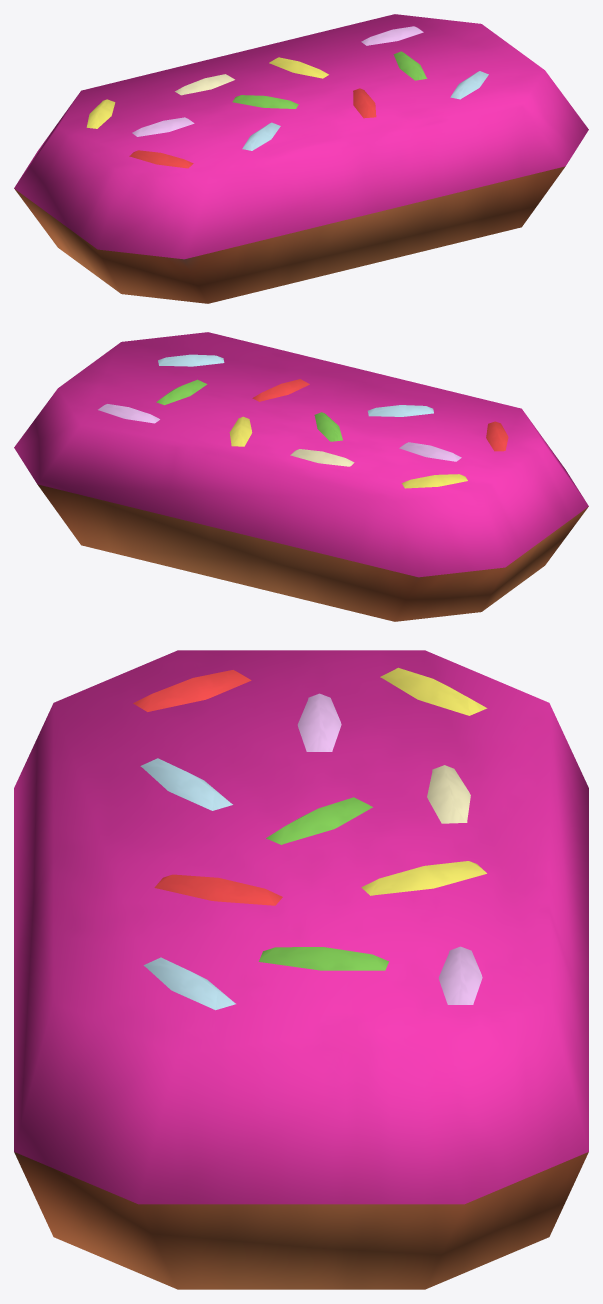
The model's file is Doughnut_Bar_A.FBX.
3 renders of one model, top to bottom at view 1: azimuth 30°, elevation 25°; view 2: azimuth 150°, elevation 25°; view 3: azimuth 270°, elevation 25°, orthographic. The views are drawn at different scales.
Parts seen in each view (by area): view 1: Doughnut_Bar; view 2: Doughnut_Bar; view 3: Doughnut_Bar.
Part boxes in pixels (x1,y1,x2,y2): Doughnut_Bar: [14, 14, 588, 303]; Doughnut_Bar: [14, 332, 588, 621]; Doughnut_Bar: [14, 650, 588, 1289].
Bounding box in the file's own units: 75.48 × 18.74 × 39.15.
